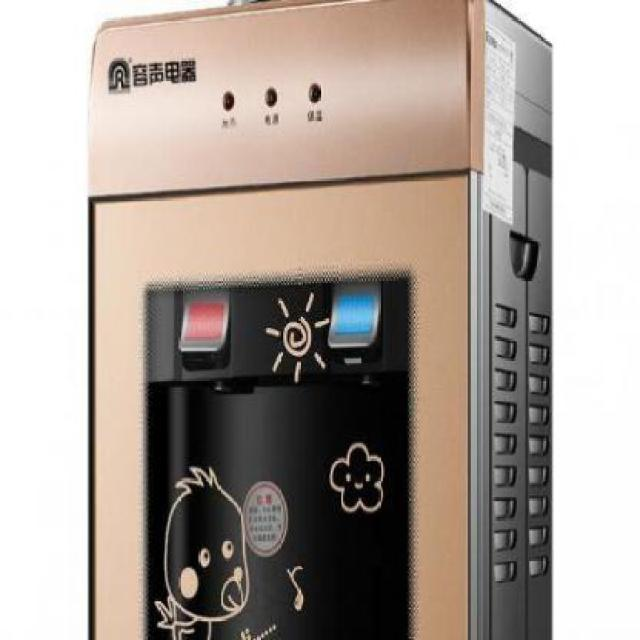cooler: (83, 0, 558, 640)
